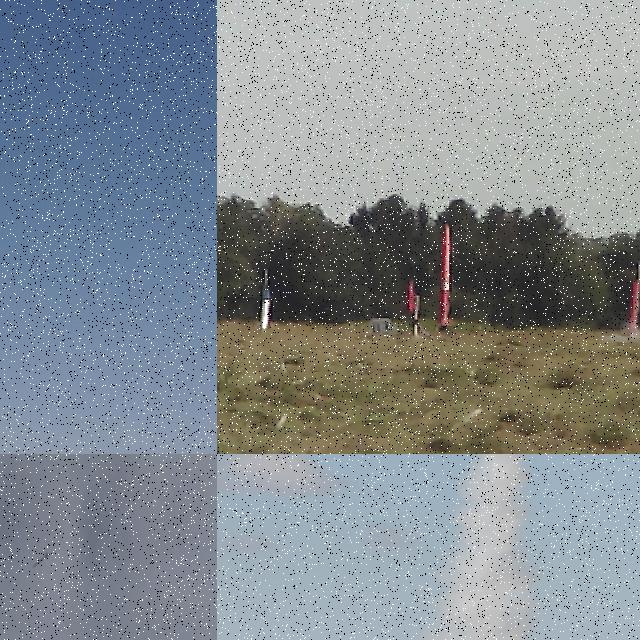Rocket: (439, 223, 451, 327), (630, 276, 639, 334), (407, 277, 418, 312), (31, 550, 50, 570), (262, 288, 270, 330)
